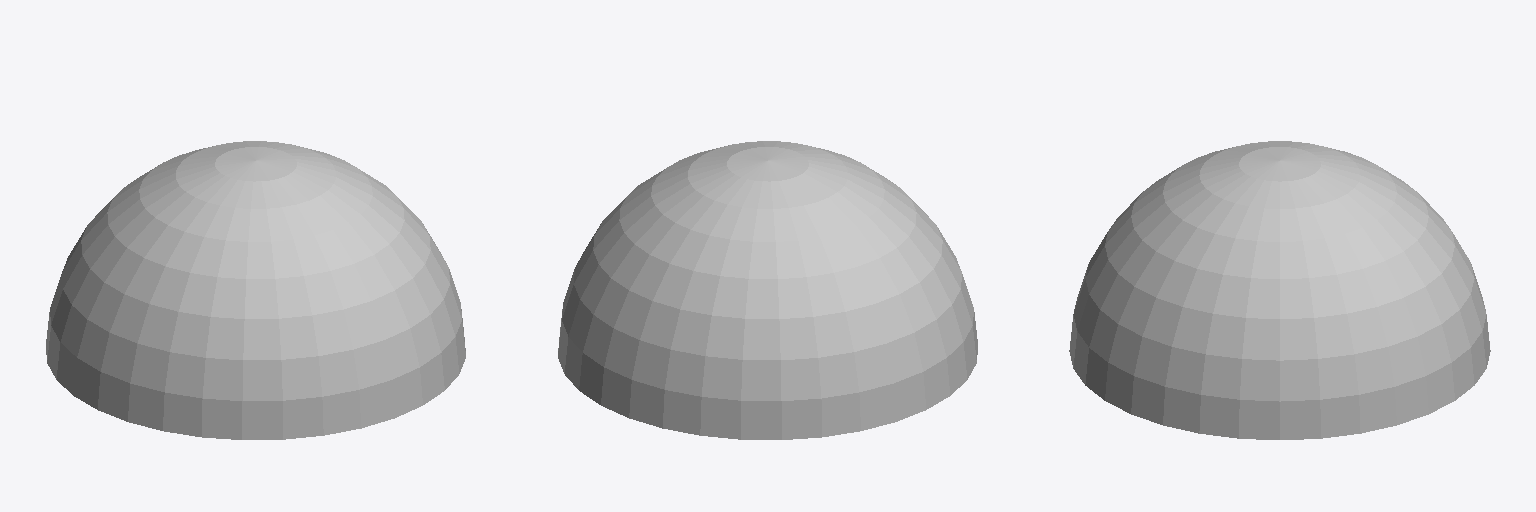
File: sky.obj
3 views of the same model, side by side, from view 1: azimuth 30°, elevation 25°; view 2: azimuth 150°, elevation 25°; view 3: azimuth 270°, elevation 25° (orthographic).
Parts seen in each view (by area): view 1: Sphere001; view 2: Sphere001; view 3: Sphere001.
Part boxes in pixels (left/top/right/bottom): Sphere001: left=46, top=141, right=465, bottom=439; Sphere001: left=558, top=141, right=977, bottom=439; Sphere001: left=1069, top=141, right=1490, bottom=439.
Bounding box in the file's own units: 600296 × 300148 × 600296.